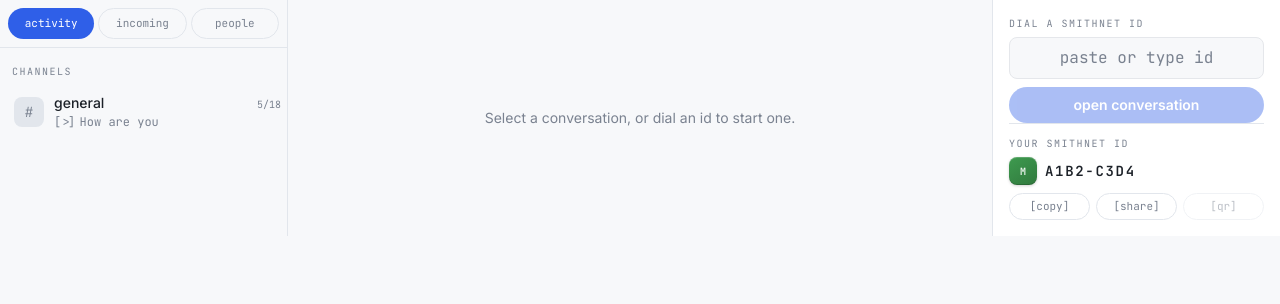
Test: CommRoute › selecting a channel populates the store and renders messages
Click the text "general".
click(79, 102)  # box [54,92,104,112]
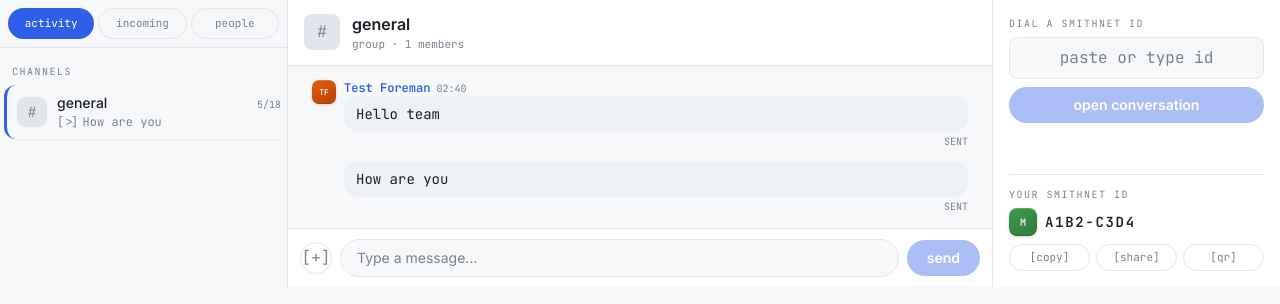
Expected: the text "How are you" is shown, [83,114,162,130]
Expected: the text "Hello team" is shown, [344,96,968,132]
